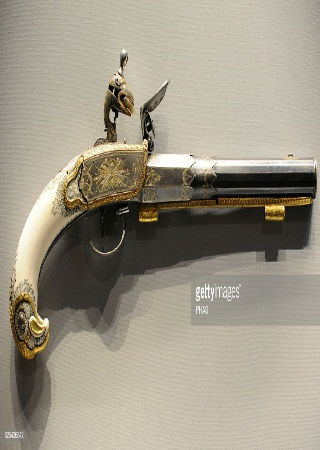handgun: (10, 40, 320, 370)
